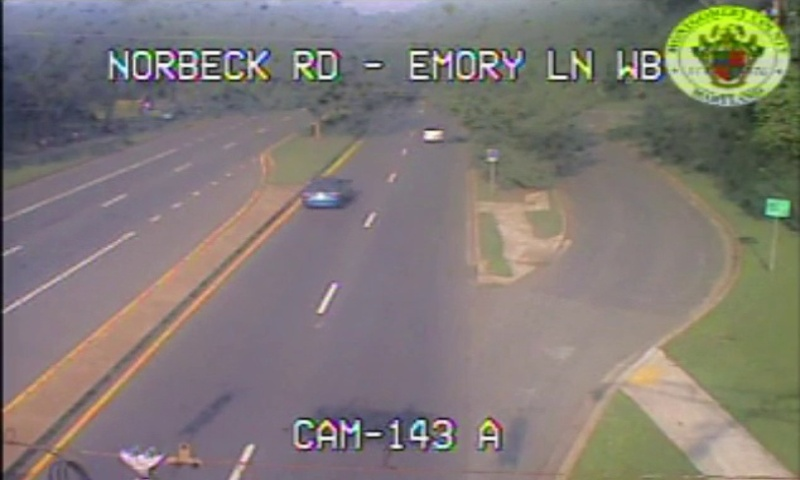car: (301, 177, 350, 207), (422, 127, 442, 142)
